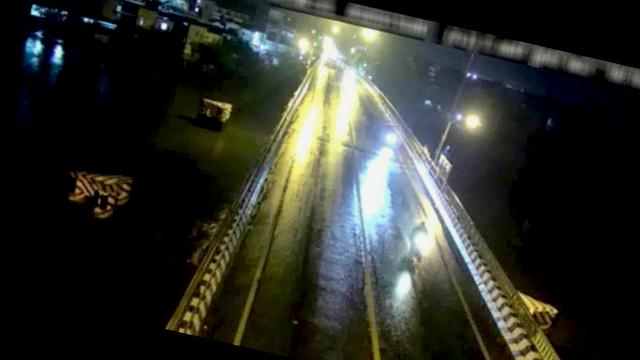Bike: (404, 218, 435, 266), (380, 123, 402, 149)
